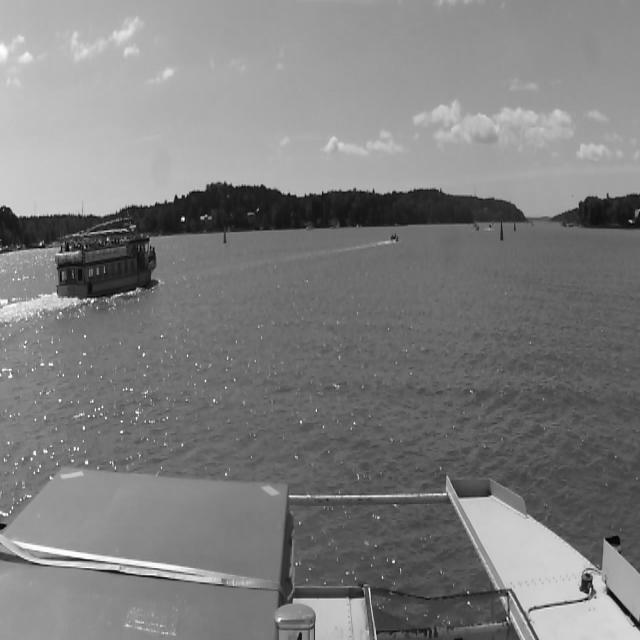buoy: (500, 220, 503, 240), (223, 230, 227, 243), (514, 220, 516, 230)
ship: (55, 224, 156, 295), (473, 181, 479, 231), (392, 232, 398, 244)
